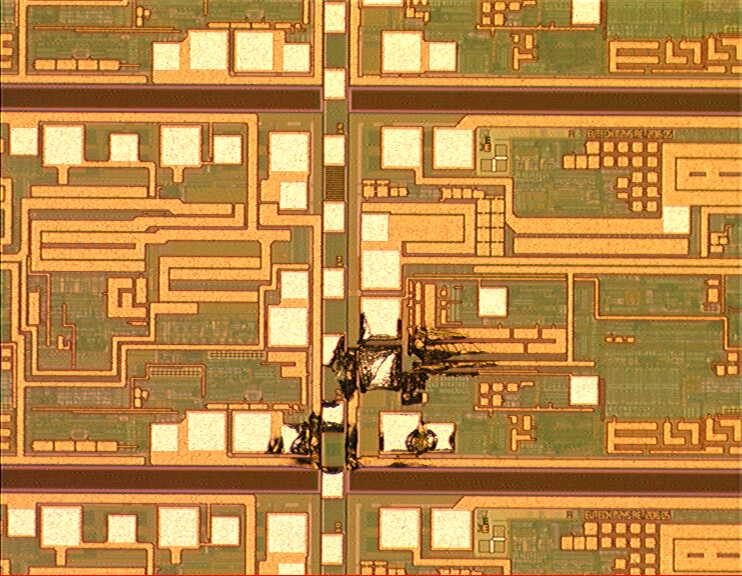SCRATCH: (267, 300, 501, 476)
